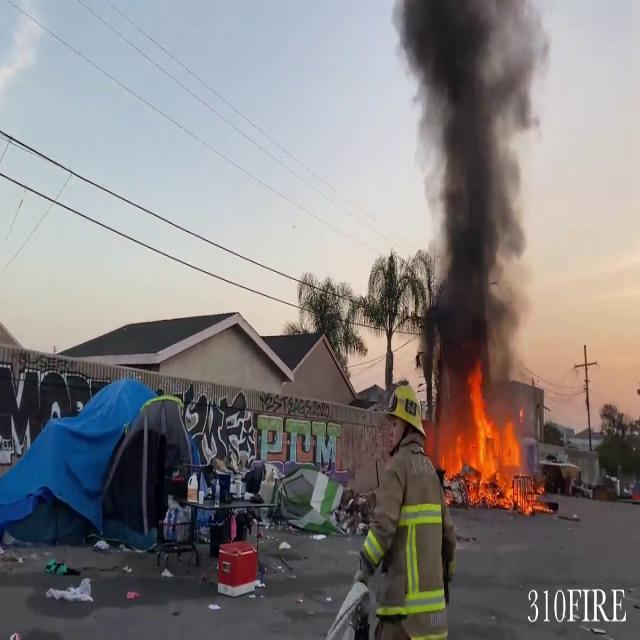Fire: (437, 366, 539, 509)
Smoke: (397, 0, 552, 382)
